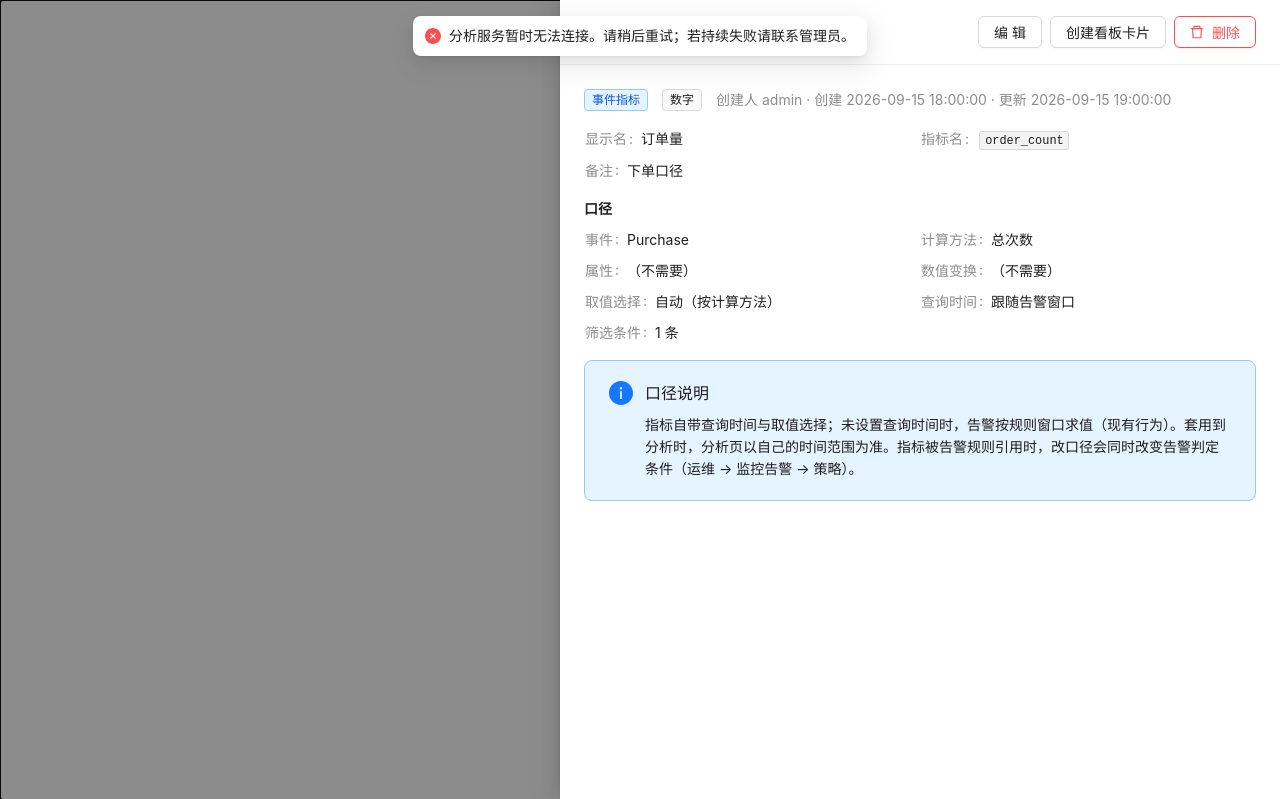
Test: 指标详情 · 编辑 › 改显示名后保存 → 载荷保留 filters/alias，且不凭空写入 v2 字段（AC-8）
// antd 会在两个汉字的按钮文案中插入空格（“编 辑”），故用正则匹配
Step 1. Click the button "编 辑" → (1010, 32), box [978, 16, 1042, 48]
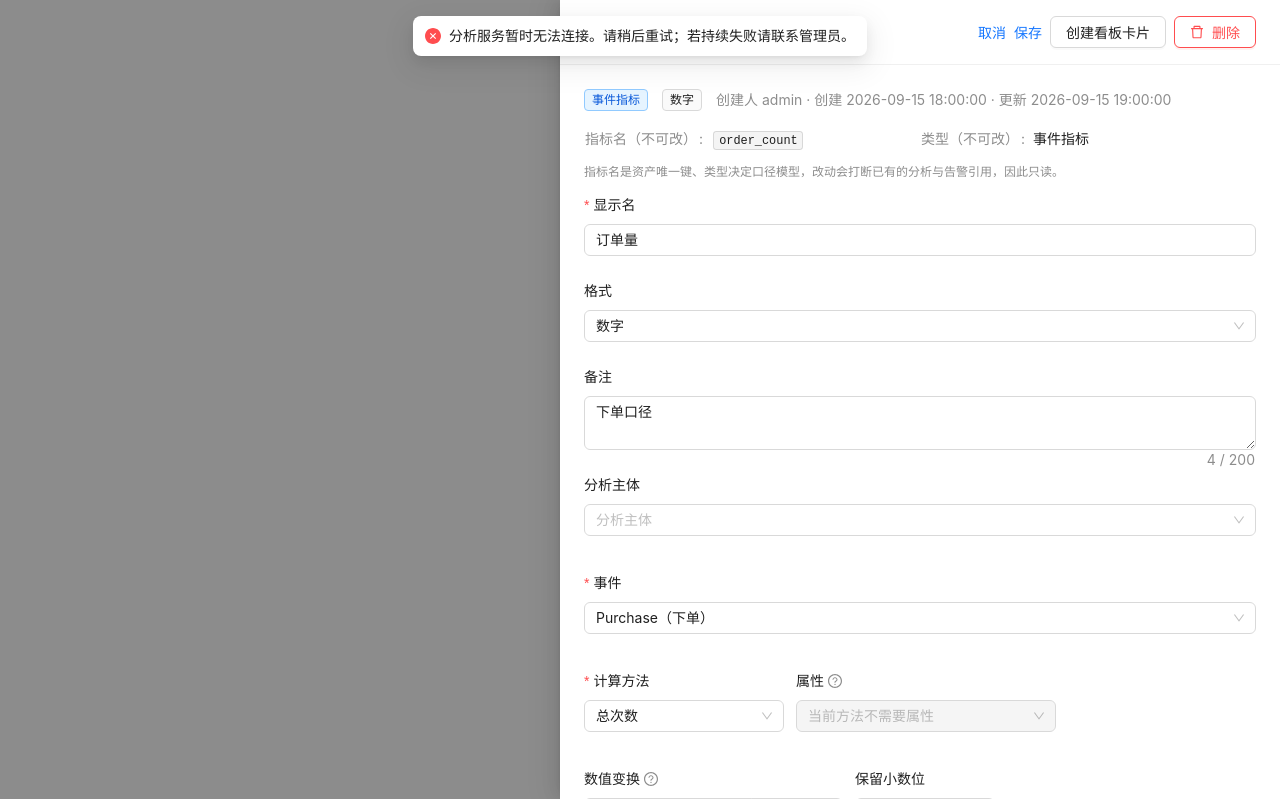
Step 2. Replace the text in the field labelled "显示名" with "订单量（新）" → (920, 240), box [584, 224, 1256, 256]
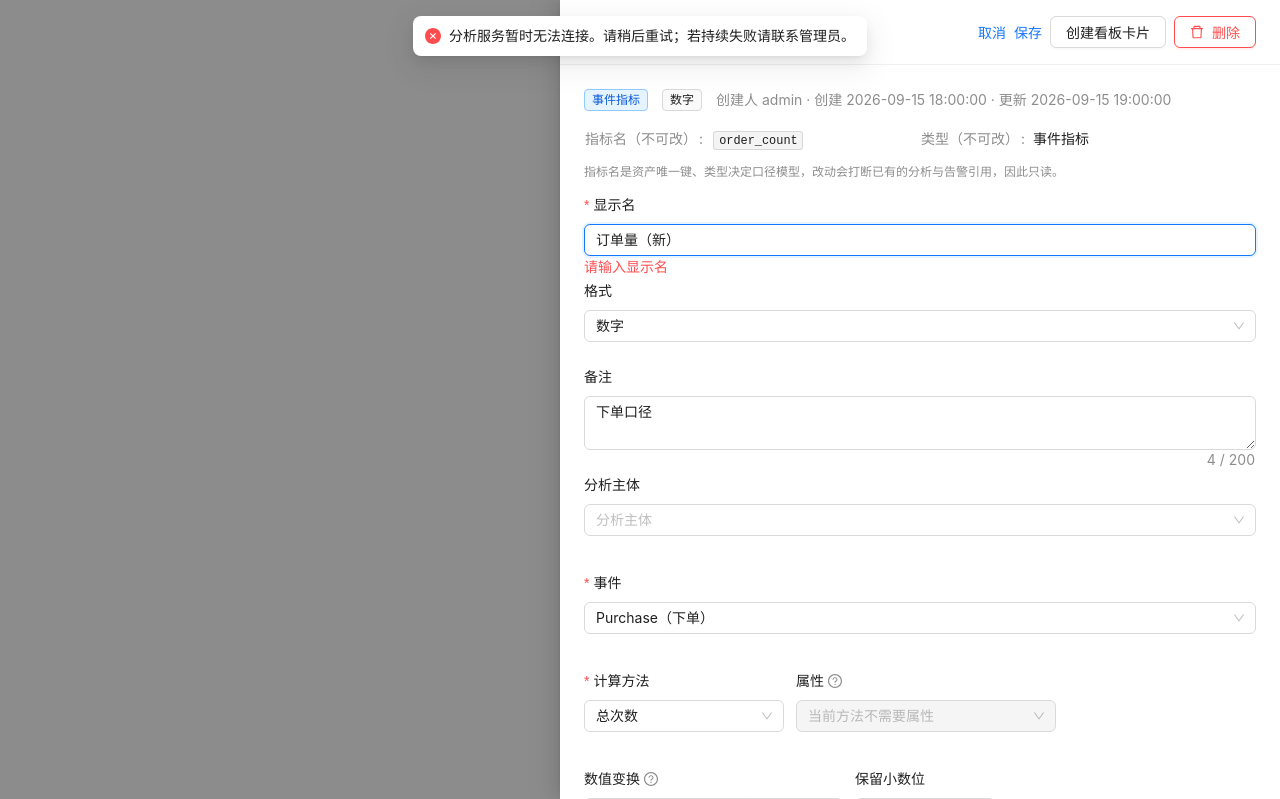
// 保存/取消沿用仓库抽屉惯例（Typography.Link），不是 Button
Step 3. Click the link "保存" → (1028, 32), box [1014, 24, 1042, 41]
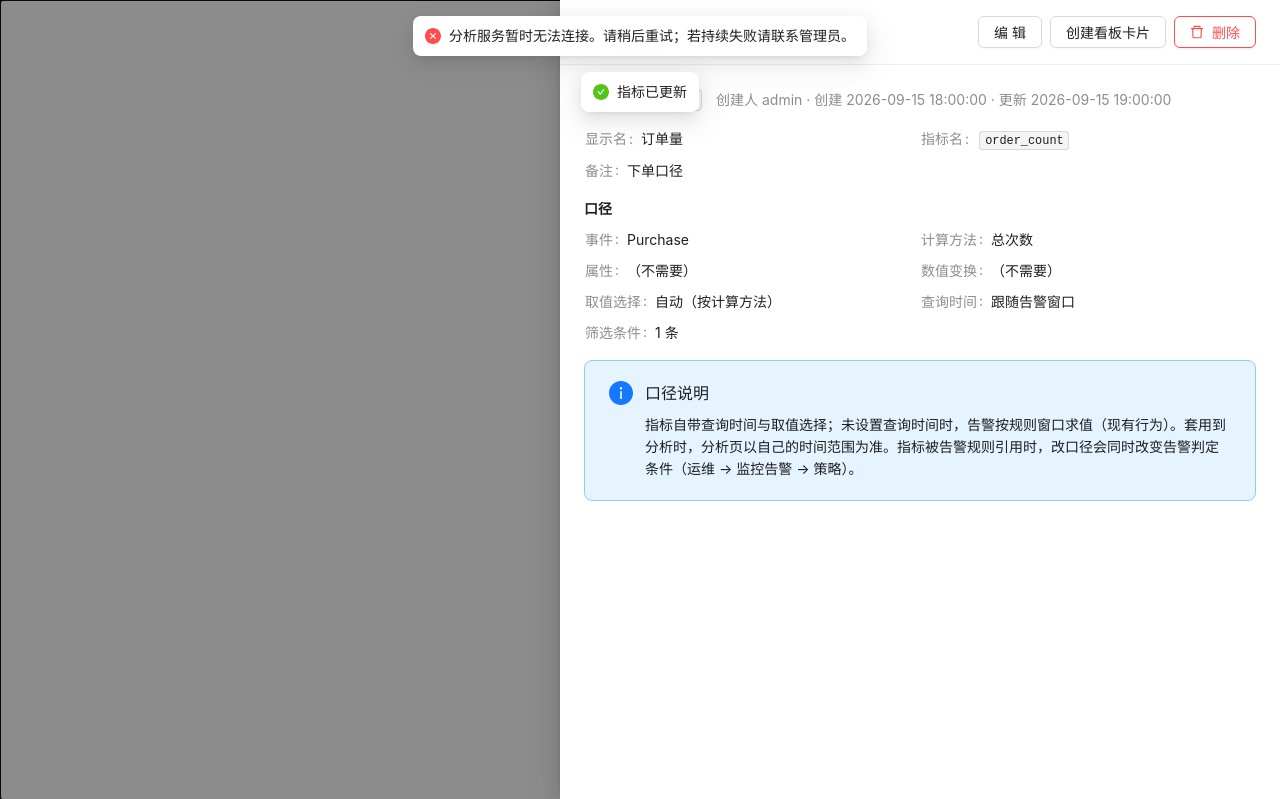
Expected: the text "Purchase" is shown, [627, 231, 689, 248]
Now the text "订单量" is shown, box [641, 130, 683, 147]
